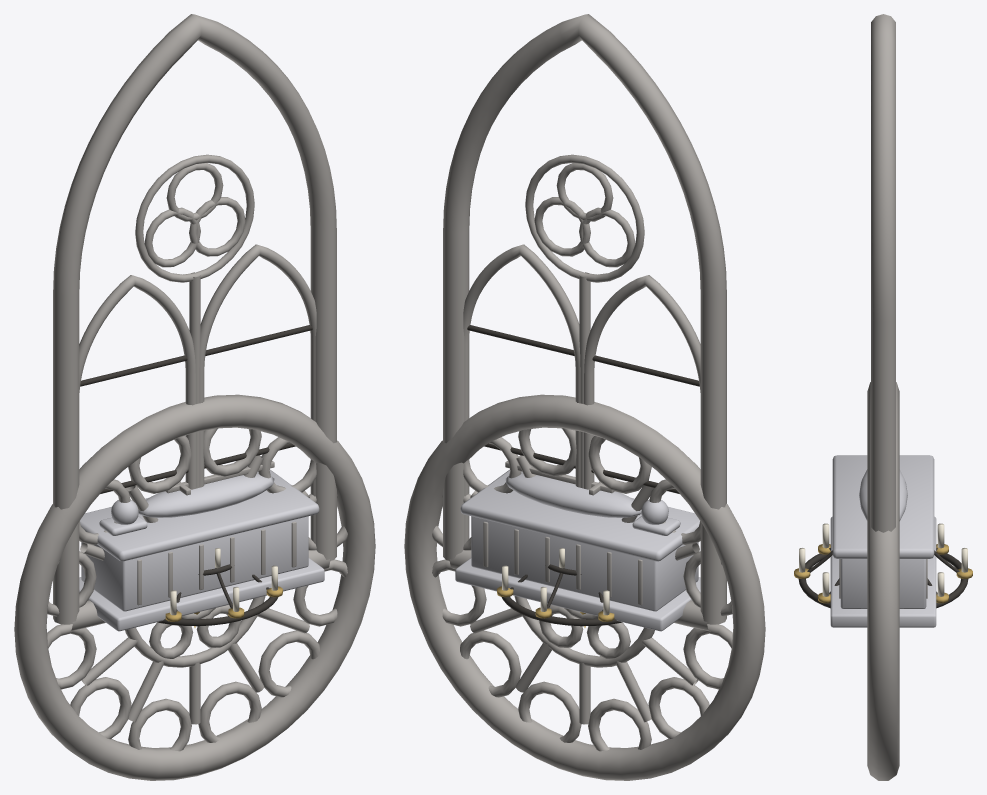
File: gothic_kit.glb
3 renders of one model, left to right at view 1: azimuth 30°, elevation 25°; view 2: azimuth 150°, elevation 25°; view 3: azimuth 270°, elevation 25°, orthographic.
Parts seen in each view (by area): view 1: rose_tracery, window_tracery, sarcophagus, chandelier; view 2: rose_tracery, window_tracery, sarcophagus, chandelier; view 3: window_tracery, sarcophagus, rose_tracery, chandelier.
Part boxes in pixels (x1=…): rose_tracery: x1=14, y1=394, x2=375, y2=780; window_tracery: x1=53, y1=14, x2=336, y2=631; sarcophagus: x1=79, y1=461, x2=324, y2=631; chandelier: x1=157, y1=548, x2=282, y2=627; rose_tracery: x1=404, y1=394, x2=765, y2=780; window_tracery: x1=443, y1=14, x2=726, y2=631; sarcophagus: x1=455, y1=461, x2=700, y2=631; chandelier: x1=497, y1=548, x2=622, y2=627; window_tracery: x1=871, y1=14, x2=895, y2=532; sarcophagus: x1=830, y1=455, x2=936, y2=627; rose_tracery: x1=867, y1=382, x2=899, y2=780; chandelier: x1=794, y1=523, x2=972, y2=608.
Bounding box in the file's own units: 4.98 × 10.15 × 2.2.
